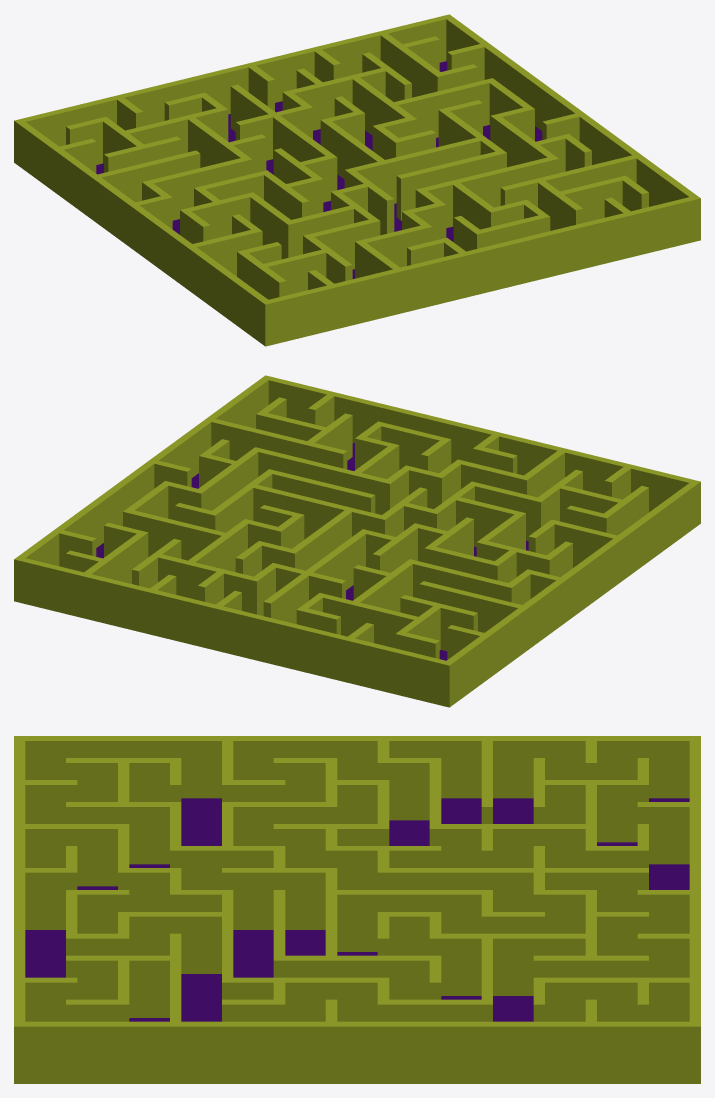
File: Level32Ground.FBX
The picture shows the model from 3 angles, top to bottom: view 1: azimuth 30°, elevation 25°; view 2: azimuth 150°, elevation 25°; view 3: azimuth 270°, elevation 25°; orthographic projection. The views are drawn at different scales.
Visible parts, largest first — view 1: Labyrinth003; view 2: Labyrinth003; view 3: Labyrinth003.
Part boxes in pixels (<box>): Labyrinth003: <box>14,14,700,346</box>; Labyrinth003: <box>14,375,700,707</box>; Labyrinth003: <box>14,736,700,1083</box>.
Size of the model in its own units: 304 by 28 by 304.
